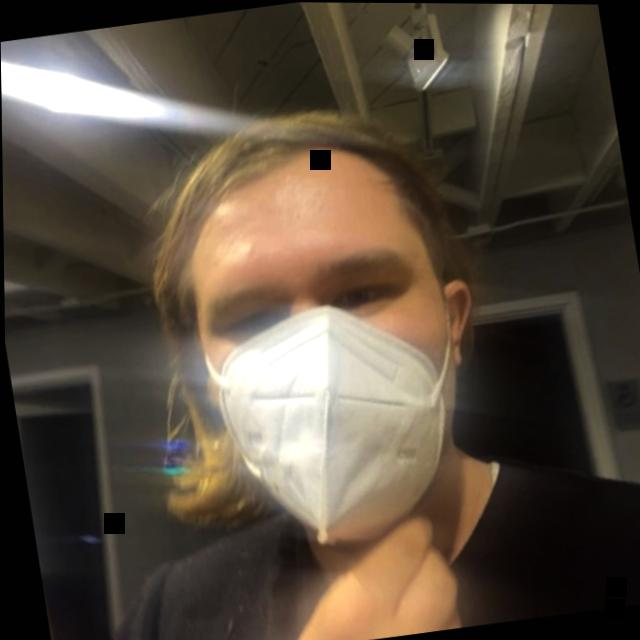Mask: (94, 80, 517, 568)
